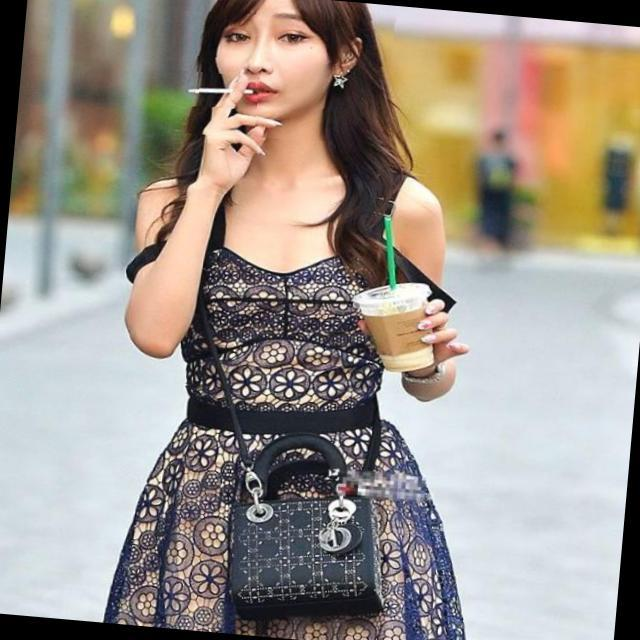cigarette: (163, 68, 259, 112)
